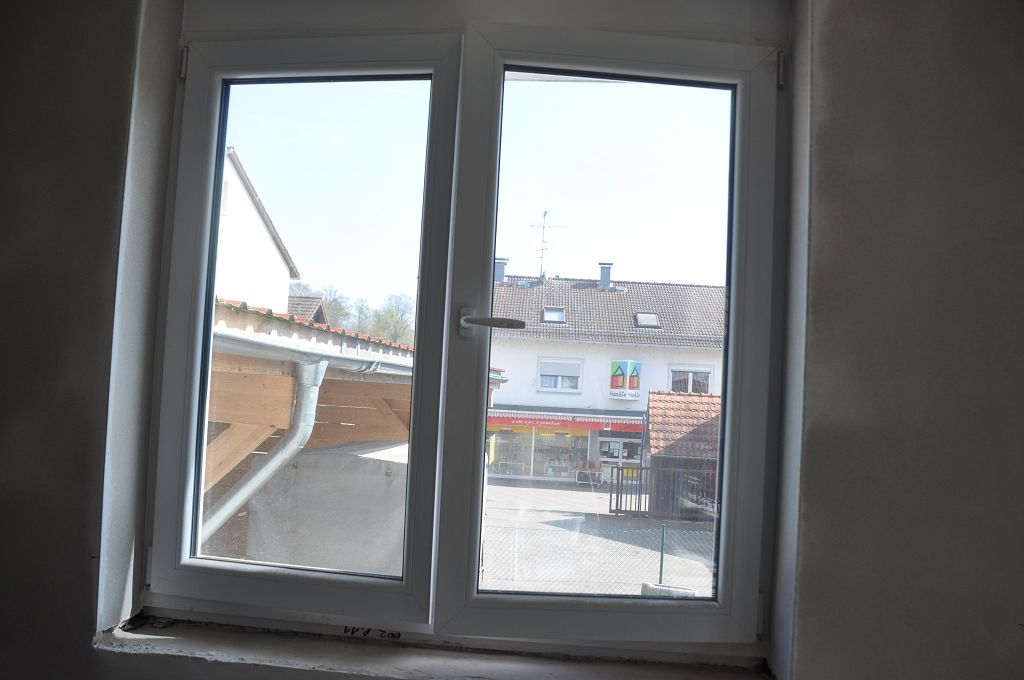windows: (175, 29, 775, 661)
